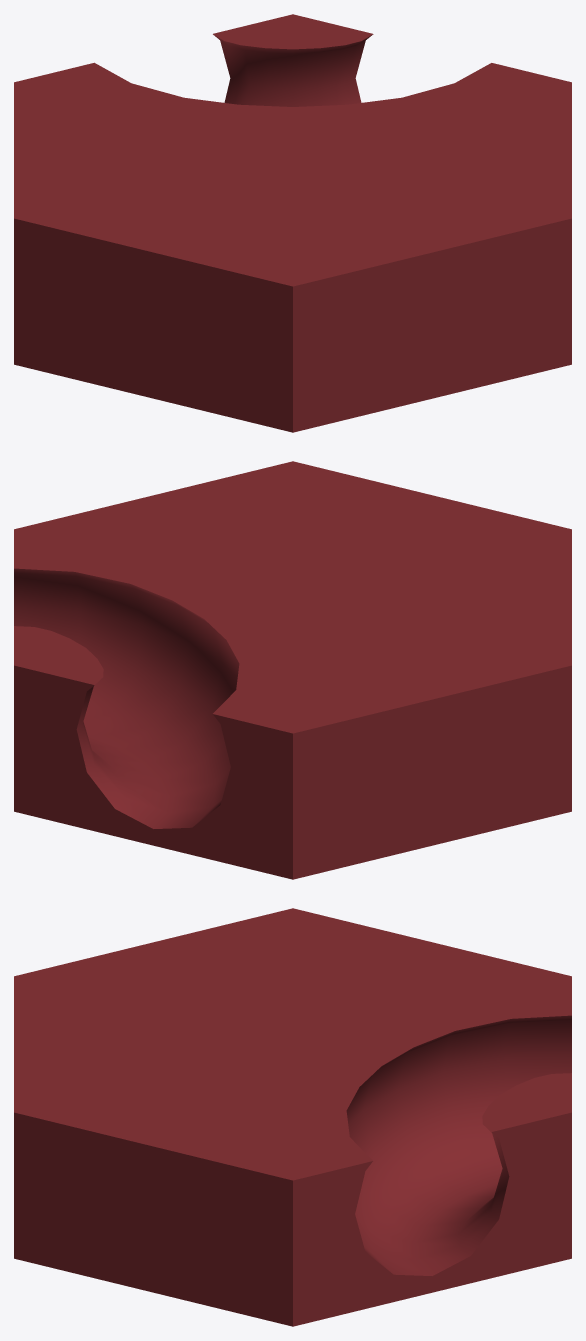
Rendered from curva60.glb.
The picture shows the model from 3 angles, top to bottom: view 1: azimuth 30°, elevation 25°; view 2: azimuth 150°, elevation 25°; view 3: azimuth 270°, elevation 25°; orthographic projection.
Visible parts, largest first — view 1: curva60-col; view 2: curva60-col; view 3: curva60-col.
Part boxes in pixels (x1,y1,x2,y2): curva60-col: (14,14,571,432); curva60-col: (14,461,571,879); curva60-col: (14,908,571,1326).
Size of the model in its own units: 1.73 by 0.4335 by 1.5.
